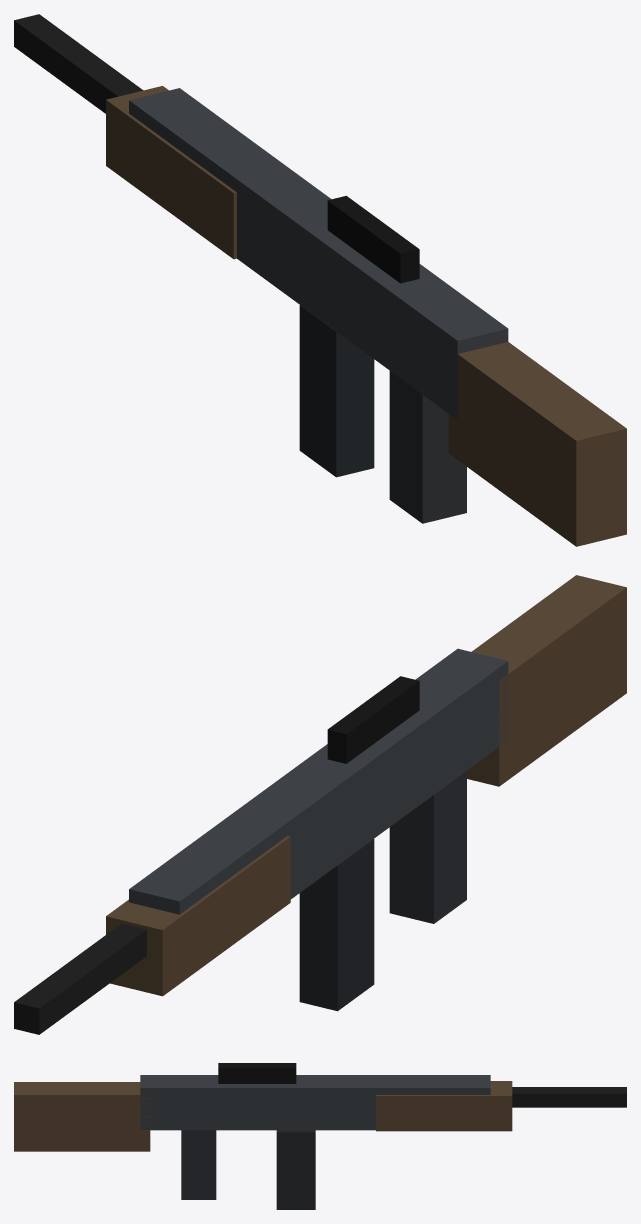
Rendered from rifle.glb.
3 renders of one model, top to bottom at view 1: azimuth 30°, elevation 25°; view 2: azimuth 150°, elevation 25°; view 3: azimuth 270°, elevation 25°, orthographic. The views are drawn at different scales.
Parts seen in each view (by area): view 1: rifle; view 2: rifle; view 3: rifle.
Part boxes in pixels (box(x1,y1,x2,y2)): rifle: box(14, 14, 626, 546); rifle: box(14, 575, 626, 1034); rifle: box(14, 1063, 626, 1209).
Size of the model in its own units: 0.09 by 0.395 by 1.57.
